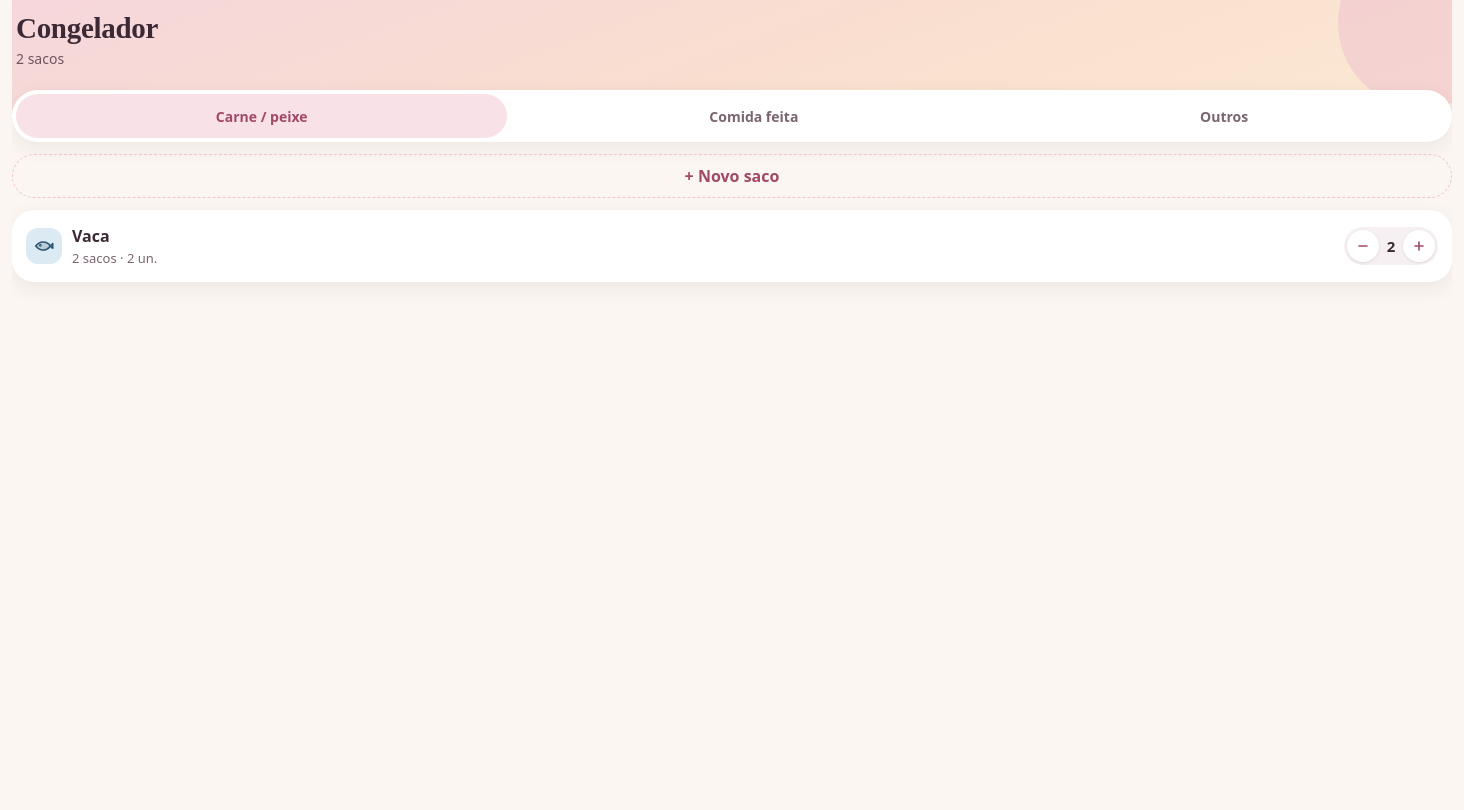
Test case: a bag that is not the last keeps the plain "Saco retirado" toast
Click the button named "Tirar um saco de Vaca" at (1363, 246), box [1347,230,1379,262]
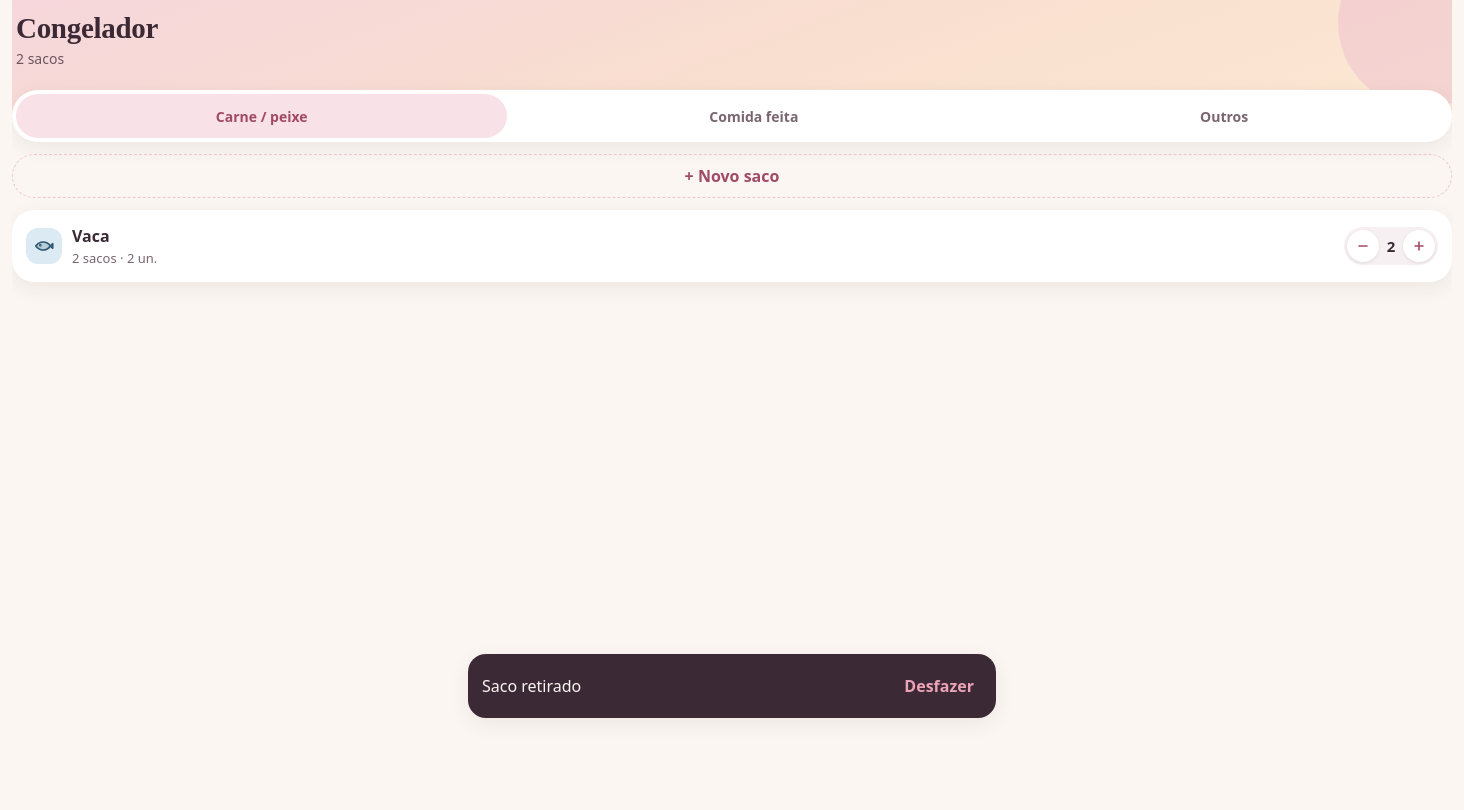
Now the text "Saco retirado" is shown, box [482,675,581,697]
